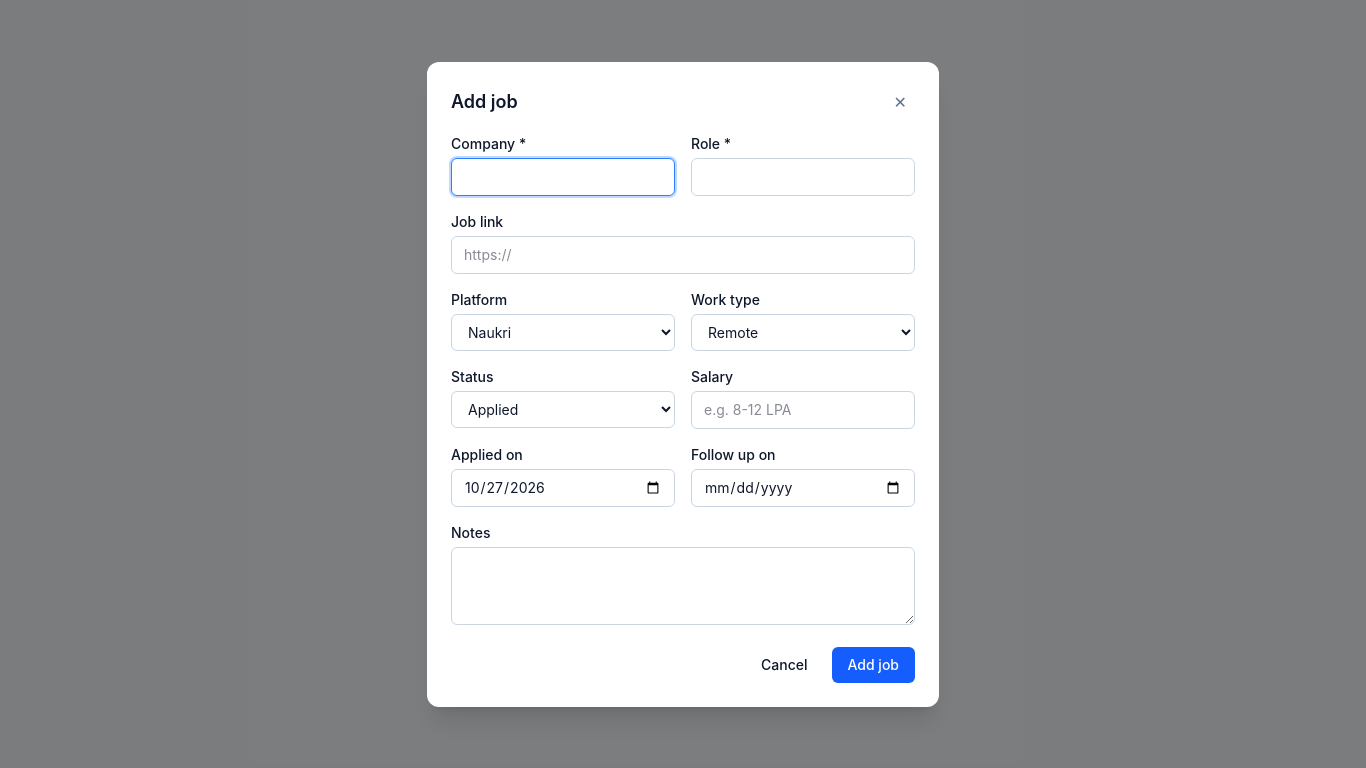
Test case: JobFormModal › shows errors when required fields are empty
Click the button "Add job" at (873, 664), box [832,646,915,682]
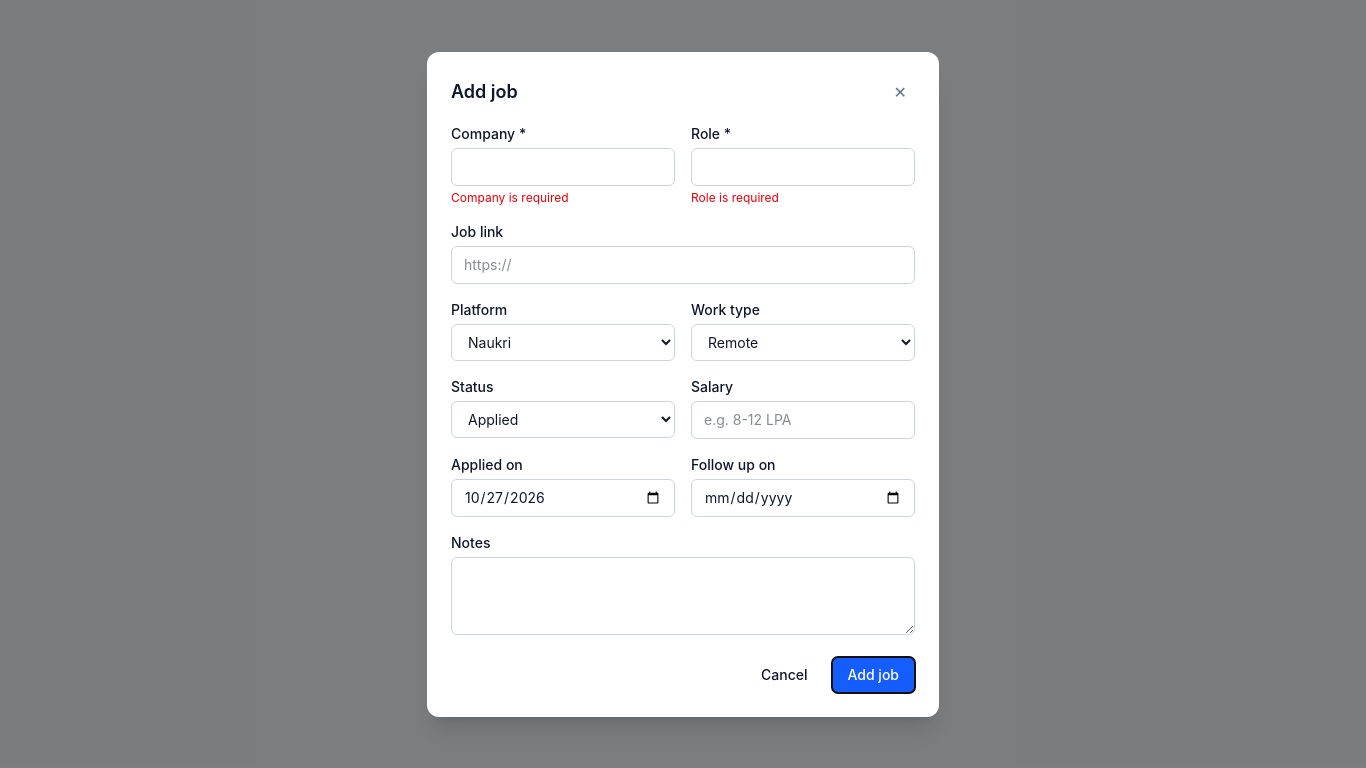
Check: the text "Company is required" is shown, box [451,190,569,204]
Check: the text "Role is required" is shown, box [691,190,779,204]
